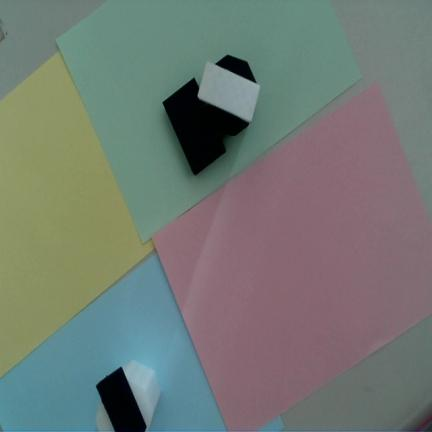Paralelepipedo: (162, 76, 227, 176), (198, 61, 261, 123), (95, 366, 147, 431)
Prisma_hexagonal: (199, 54, 258, 137), (94, 360, 162, 431)
